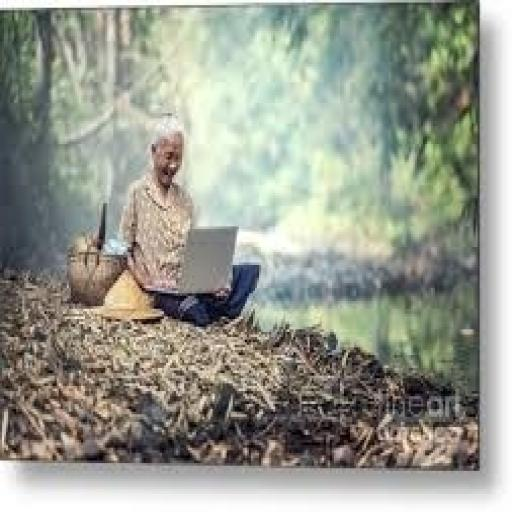using_laptop: (142, 221, 238, 296)
